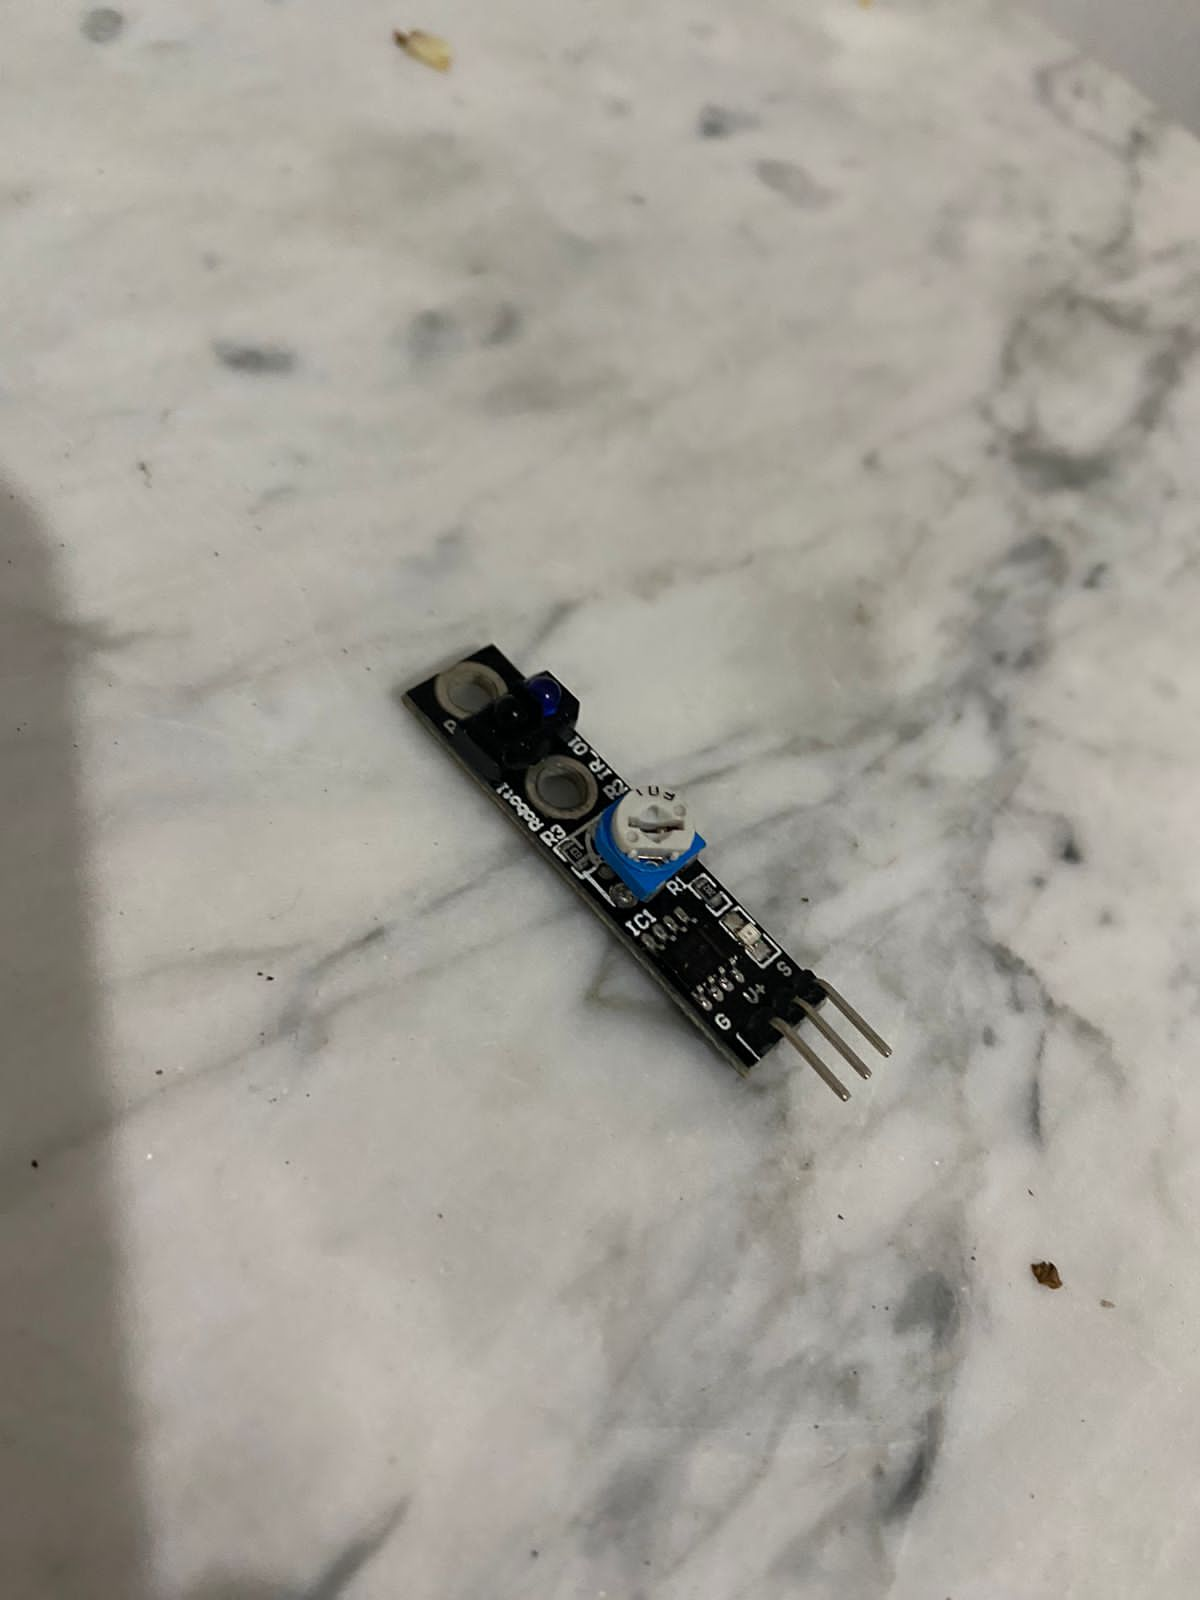ir-sensor: (381, 632, 908, 1105)
